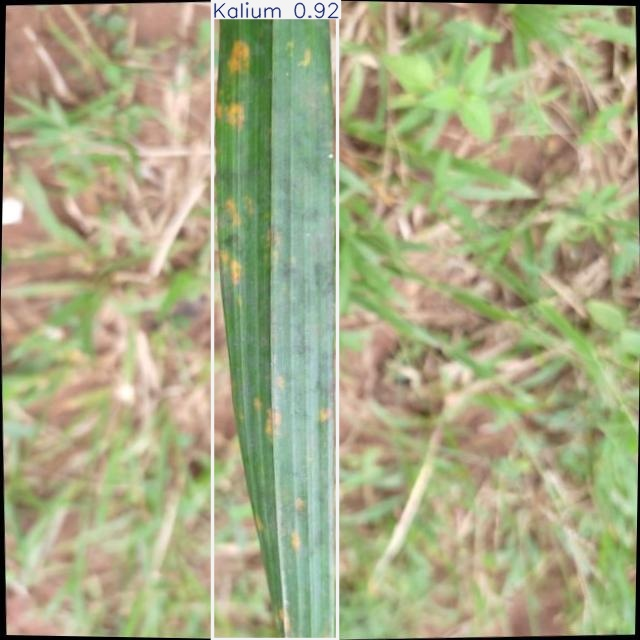Kalium: (213, 0, 337, 640)
